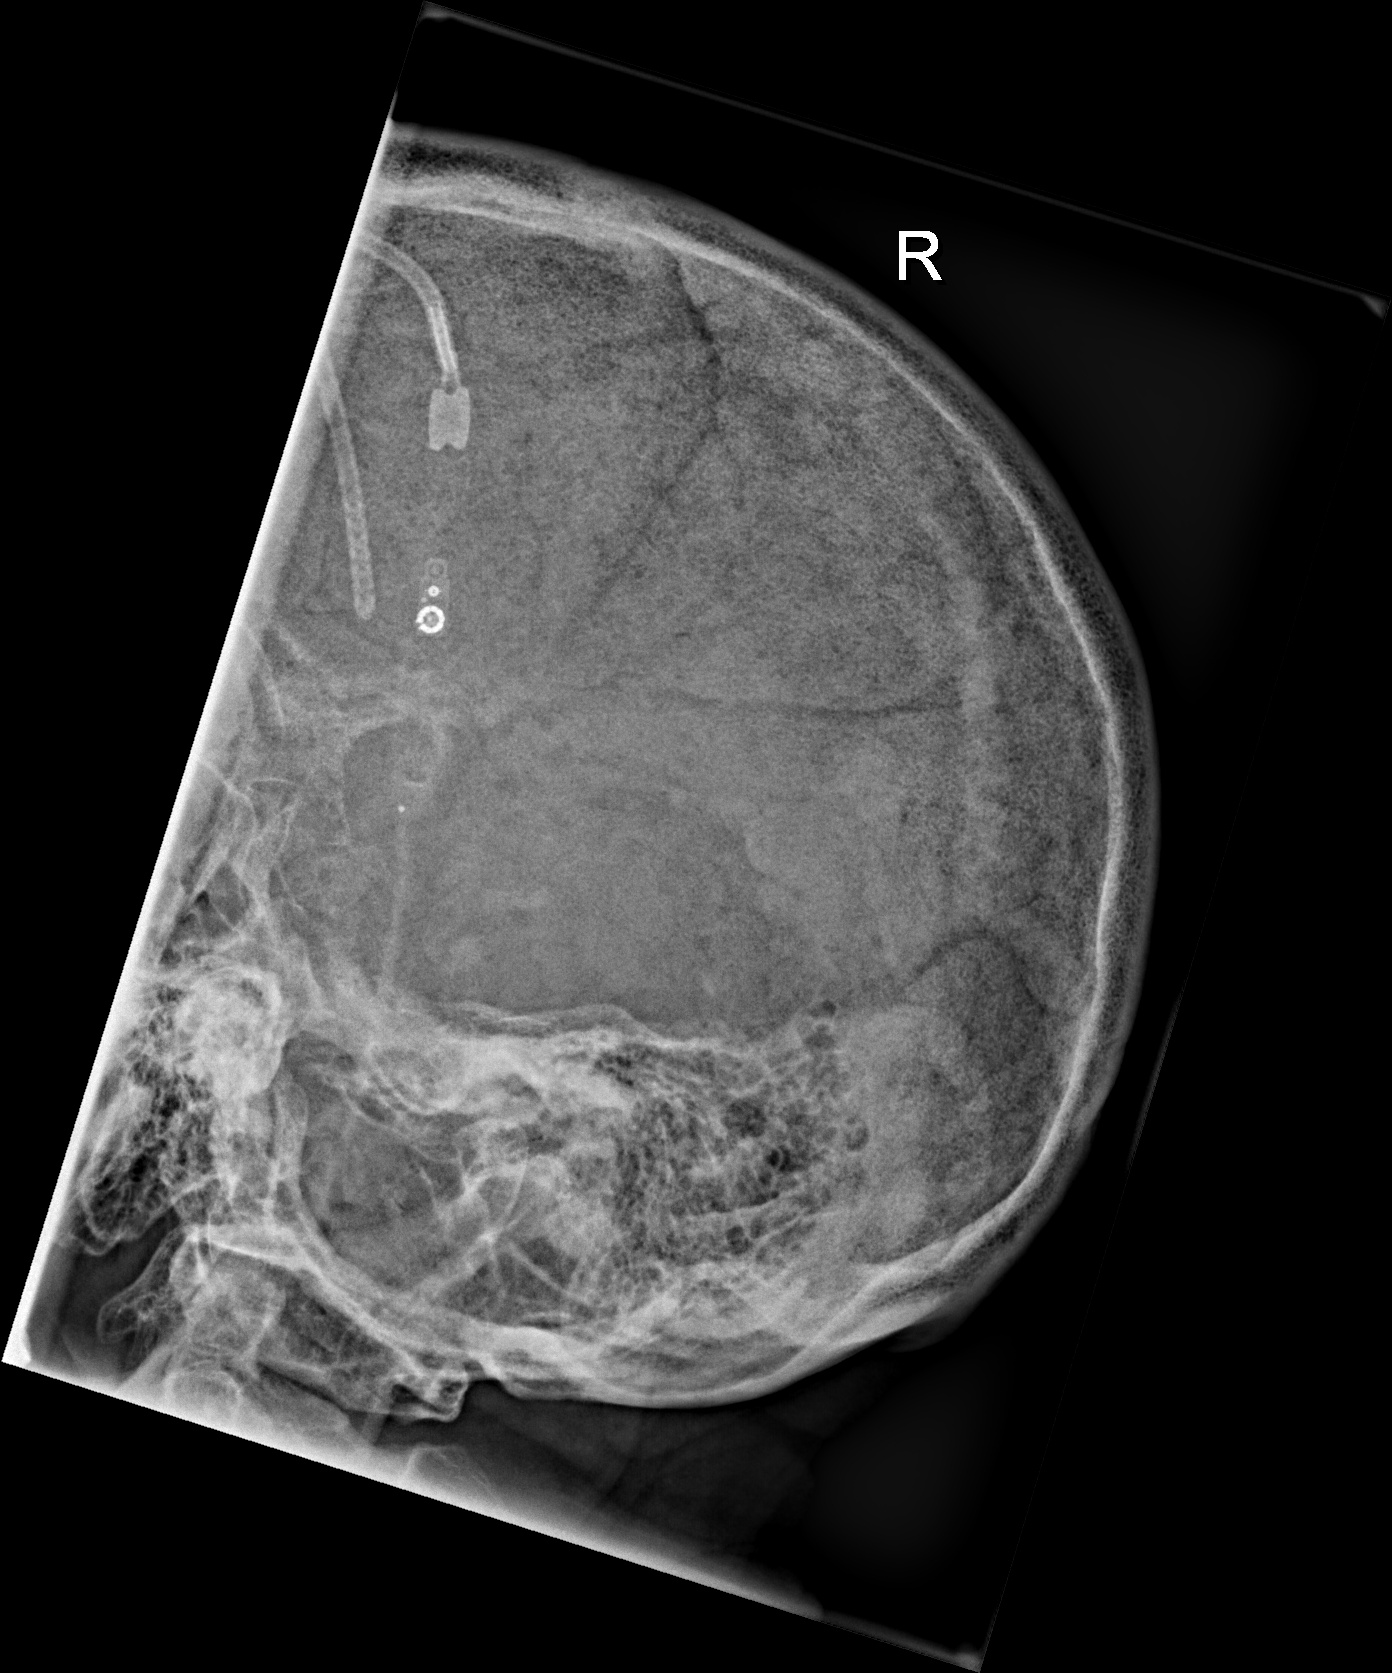Codman Hakim: (404, 552, 464, 677)
